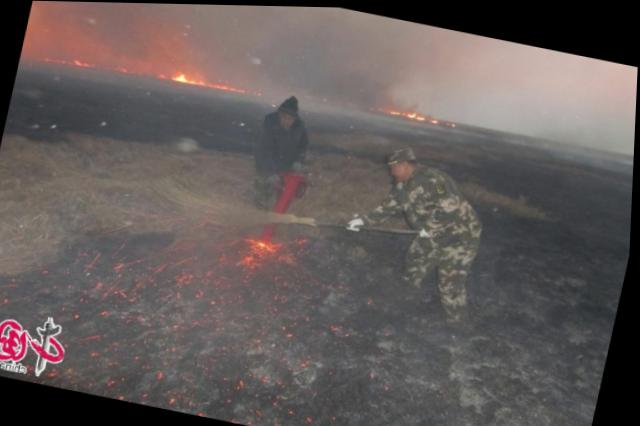fire: (39, 39, 251, 99), (221, 220, 300, 280), (369, 98, 459, 130)
